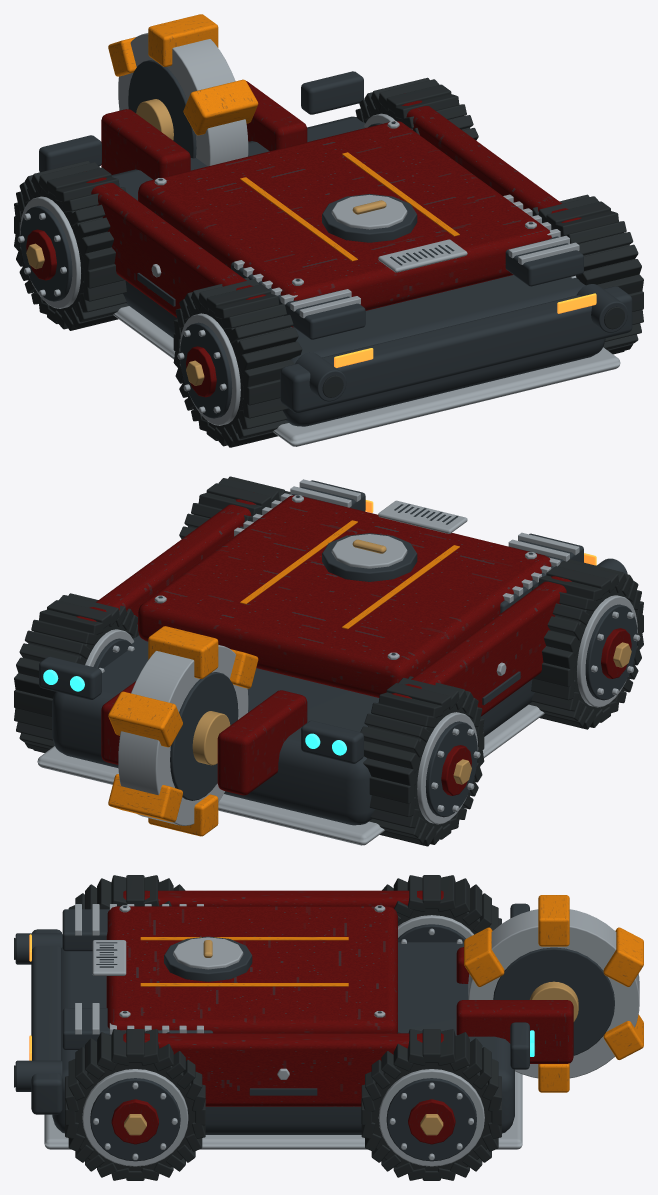
The model's file is bruiser.glb.
3 renders of one model, top to bottom at view 1: azimuth 30°, elevation 25°; view 2: azimuth 150°, elevation 25°; view 3: azimuth 270°, elevation 25°, orthographic. The views are drawn at different scales.
Parts seen in each view (by area): view 1: Detach_Armor_Deck, Structural_Chassis, Chassis_detail, Detach_Drive_Left_Wheel1, Detach_Weapon_Spinner, Detach_Drive_Left_Wheel0, Detach_Armor_Left, Detach_Drive_Right_Wheel1, Detach_Armor_Right, Spinner bearing bracket, Detach_Drive_Right_Wheel0, Spinner bearing bracket.001; view 2: Detach_Armor_Deck, Structural_Chassis, Detach_Weapon_Spinner, Detach_Drive_Left_Wheel0, Detach_Drive_Left_Wheel1, Detach_Drive_Right_Wheel0, Detach_Armor_Left, Spinner bearing bracket, Detach_Armor_Right, Detach_Drive_Right_Wheel1, Chassis_detail, Spinner bearing bracket.001; view 3: Detach_Armor_Deck, Structural_Chassis, Detach_Weapon_Spinner, Detach_Drive_Right_Wheel1, Detach_Drive_Right_Wheel0, Detach_Armor_Right, Chassis_detail, Detach_Drive_Left_Wheel0, Spinner bearing bracket.001, Detach_Armor_Left, Detach_Drive_Left_Wheel1.
Boxes of the visible parts, <box> form: Detach_Armor_Deck: <box>138,121,551,327</box>; Structural_Chassis: <box>39,71,627,446</box>; Chassis_detail: <box>280,239,632,413</box>; Detach_Drive_Left_Wheel1: <box>173,277,302,447</box>; Detach_Weapon_Spinner: <box>108,14,258,166</box>; Detach_Drive_Left_Wheel0: <box>14,160,128,330</box>; Detach_Armor_Left: <box>86,177,265,317</box>; Detach_Drive_Right_Wheel1: <box>532,194,643,354</box>; Detach_Armor_Right: <box>402,100,581,222</box>; Spinner bearing bracket: <box>101,109,190,179</box>; Detach_Drive_Right_Wheel0: <box>355,77,478,140</box>; Spinner bearing bracket.001: <box>246,81,307,151</box>; Detach_Armor_Deck: <box>138,495,551,697</box>; Structural_Chassis: <box>37,479,627,845</box>; Detach_Weapon_Spinner: <box>108,626,258,836</box>; Detach_Drive_Left_Wheel0: <box>360,676,484,846</box>; Detach_Drive_Left_Wheel1: <box>529,559,643,729</box>; Detach_Drive_Right_Wheel0: <box>14,593,138,752</box>; Detach_Armor_Left: <box>391,576,571,716</box>; Spinner bearing bracket: <box>217,690,307,795</box>; Detach_Armor_Right: <box>76,499,255,624</box>; Detach_Drive_Right_Wheel1: <box>179,476,290,538</box>; Chassis_detail: <box>365,500,596,565</box>; Spinner bearing bracket.001: <box>101,681,135,764</box>; Detach_Armor_Deck: <box>106,905,397,1033</box>; Structural_Chassis: <box>14,903,534,1149</box>; Detach_Weapon_Spinner: <box>464,895,643,1092</box>; Detach_Drive_Right_Wheel1: <box>65,1029,205,1180</box>; Detach_Drive_Right_Wheel0: <box>361,1029,501,1180</box>; Detach_Armor_Right: <box>123,1033,443,1106</box>; Chassis_detail: <box>29,929,126,1114</box>; Detach_Drive_Left_Wheel0: <box>382,875,501,943</box>; Spinner bearing bracket.001: <box>456,1000,573,1063</box>; Detach_Armor_Left: <box>123,890,443,908</box>; Detach_Drive_Left_Wheel1: <box>68,875,185,909</box>.
Bounding box in the file's own units: 1.79 × 0.7855 × 2.42.
8 materials, 2 textured.
